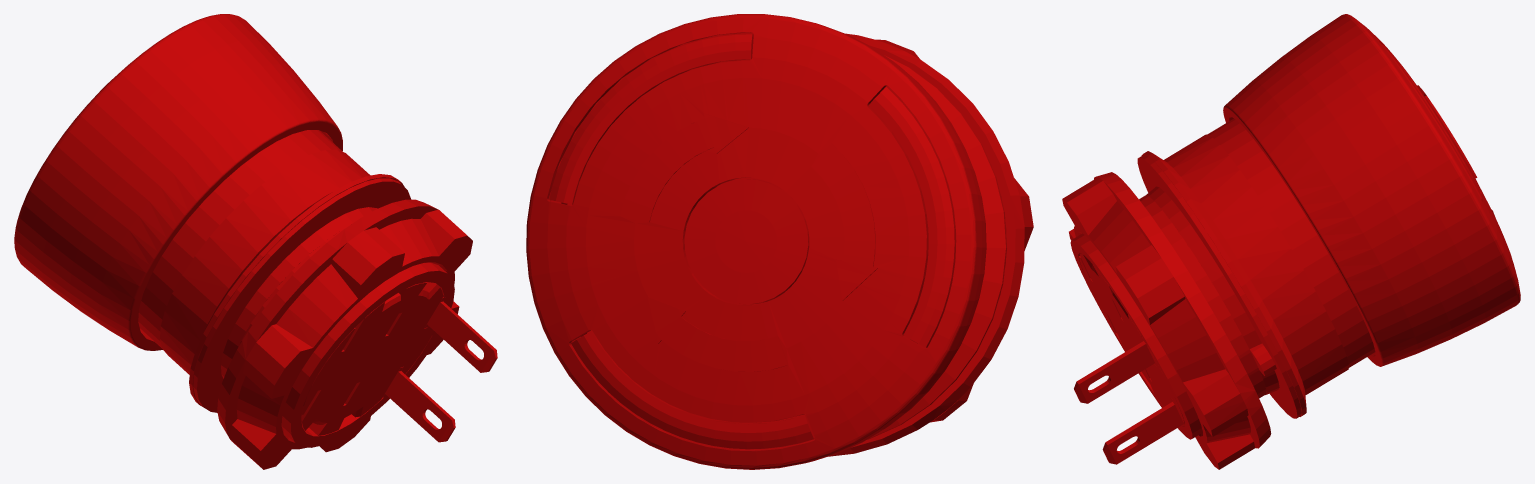
Rendered from estop_link.obj.
The picture shows the model from 3 angles, left to right: view 1: azimuth 30°, elevation 25°; view 2: azimuth 150°, elevation 25°; view 3: azimuth 270°, elevation 25°; orthographic projection. The views are drawn at different scales.
Parts seen in each view (by area): view 1: estop_link; view 2: estop_link; view 3: estop_link.
Part boxes in pixels (x1=…): estop_link: x1=14, y1=14, x2=497, y2=469; estop_link: x1=526, y1=14, x2=1033, y2=469; estop_link: x1=1062, y1=14, x2=1520, y2=469.
Bounding box in the file's own units: 0.0387 × 0.0413 × 0.0433.
